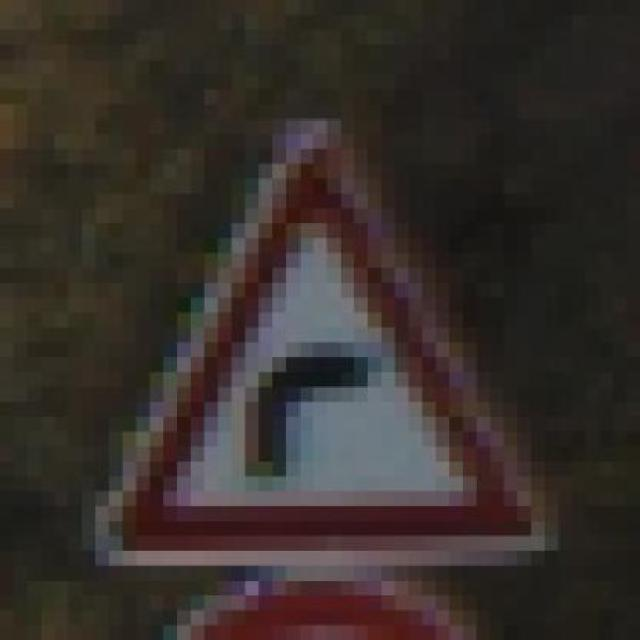Dangerous Rright Curve Ahead: (68, 89, 558, 580)
